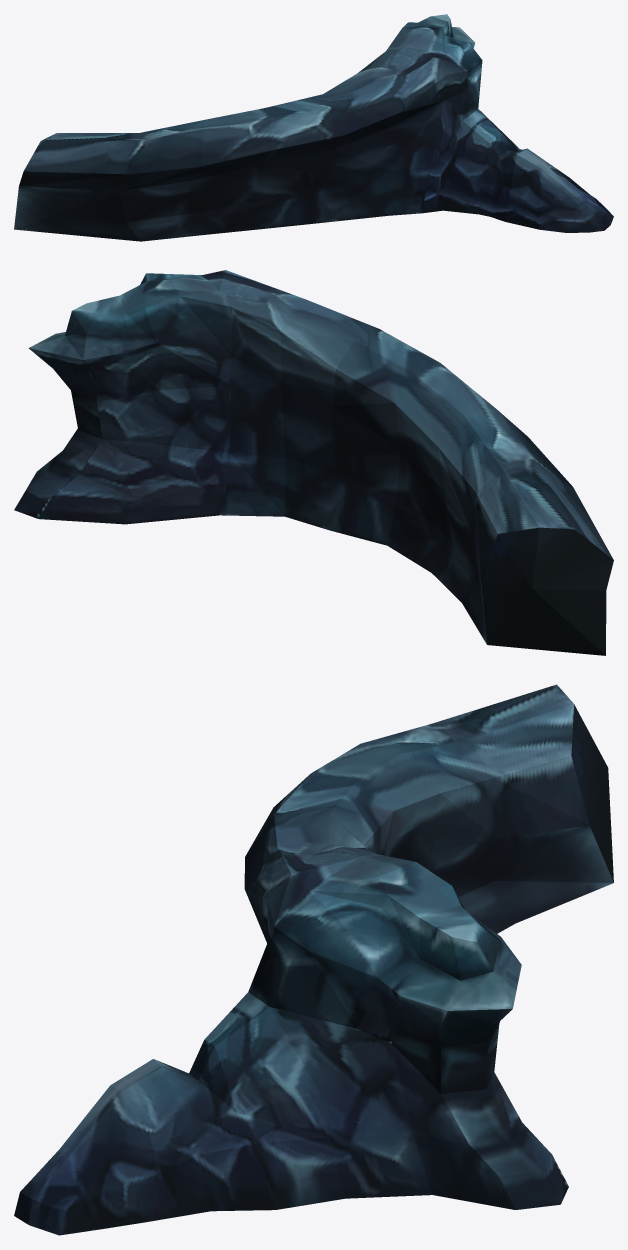
Rendered from H_Maze_shitou09.FBX.
3 views of the same model, one above another, from view 1: azimuth 30°, elevation 25°; view 2: azimuth 150°, elevation 25°; view 3: azimuth 270°, elevation 25° (orthographic). The views are drawn at different scales.
Parts seen in each view (by area): view 1: shitou09; view 2: shitou09; view 3: shitou09.
Boxes of the visible parts, <box> form: shitou09: <box>14,14,613,241</box>; shitou09: <box>14,270,613,655</box>; shitou09: <box>14,684,613,1235</box>.
Bounding box in the file's own units: 513 × 155 × 311.
